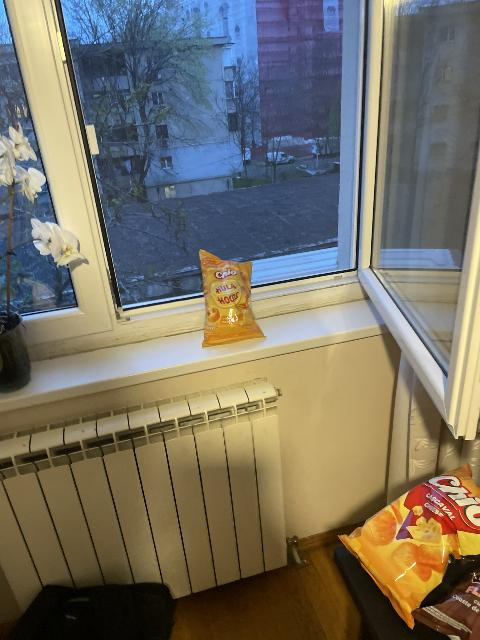Chio Cascaval 125g: (338, 463, 475, 629)
Chio Hula Hoops Cheese 70g: (199, 249, 266, 345)
Lays Beef Grilled Ribs 125g: (412, 570, 480, 640)
